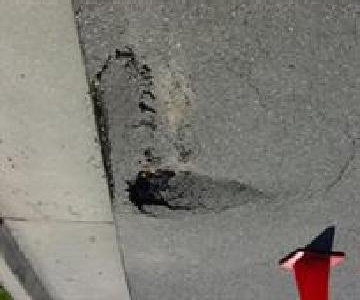pothole: (86, 44, 160, 215), (124, 166, 264, 215)
